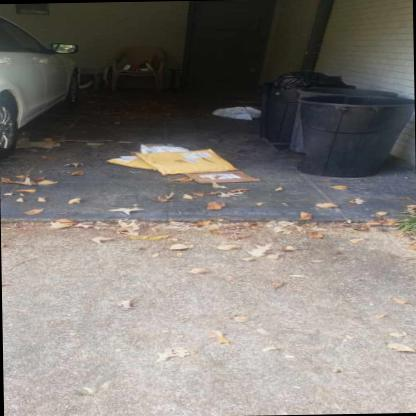envelope: (133, 148, 241, 178), (187, 170, 264, 183)
